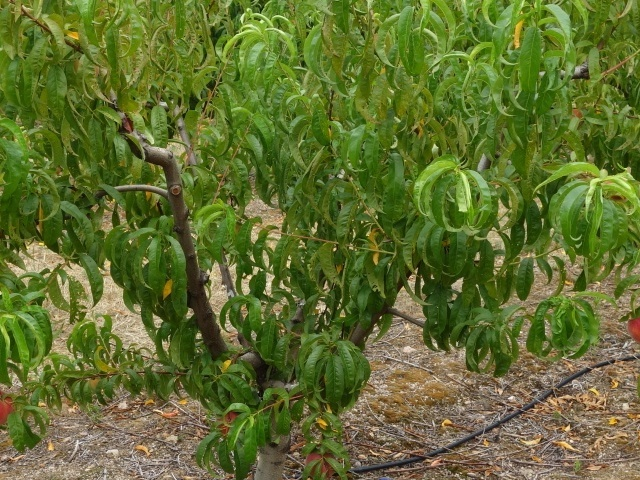peach: (300, 446, 340, 479), (1, 390, 16, 431)
